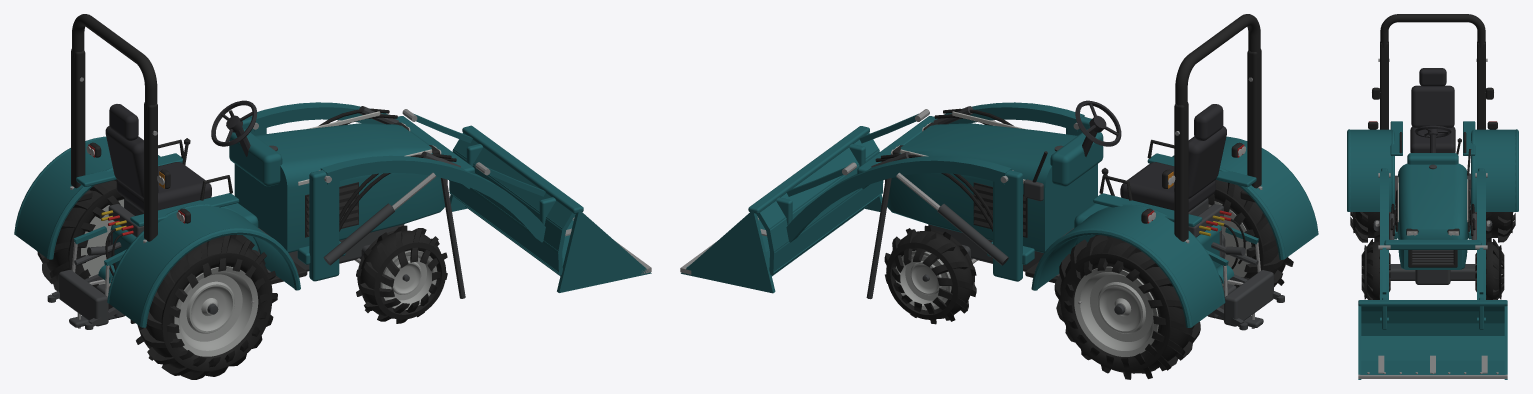
Rendered from SM_Prop_farm_tractor_compact_0.glb.
3 renders of one model, left to right at view 1: azimuth 30°, elevation 25°; view 2: azimuth 150°, elevation 25°; view 3: azimuth 270°, elevation 25°, orthographic. The views are drawn at different scales.
Parts seen in each view (by area): view 1: SM_Prop_farm_tractor_compact_0; view 2: SM_Prop_farm_tractor_compact_0; view 3: SM_Prop_farm_tractor_compact_0.
Part boxes in pixels (x1,y1,x2,y2): SM_Prop_farm_tractor_compact_0: [14, 14, 651, 379]; SM_Prop_farm_tractor_compact_0: [680, 14, 1318, 379]; SM_Prop_farm_tractor_compact_0: [1347, 14, 1518, 379].
Size of the model in its own units: 3.94 by 2.24 by 1.66.
